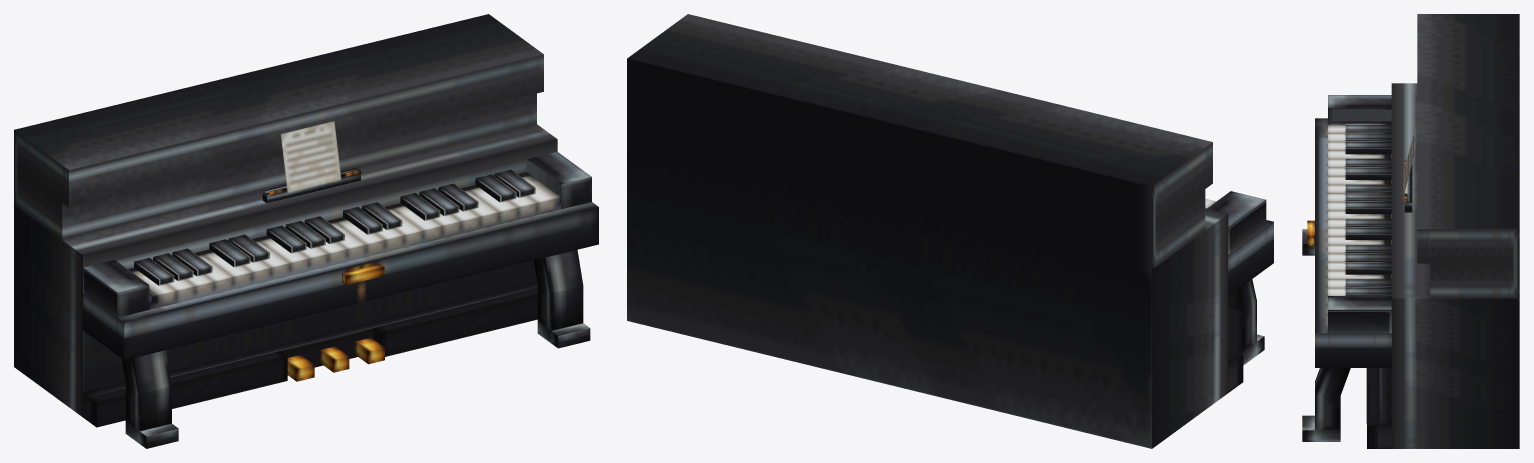
The model's file is Inside_Poly_Piano_01.obj.
The picture shows the model from 3 angles, left to right: view 1: azimuth 30°, elevation 25°; view 2: azimuth 150°, elevation 25°; view 3: azimuth 270°, elevation 25°; orthographic projection. The views are drawn at different scales.
Parts seen in each view (by area): view 1: Cube; view 2: Cube; view 3: Cube.
Boxes of the visible parts, bbox=[...] form: Cube: bbox=[14, 14, 598, 448]; Cube: bbox=[627, 14, 1273, 448]; Cube: bbox=[1302, 14, 1519, 448].
Size of the model in its own units: 2.19 by 1.04 by 0.935.
1 material, 1 textured.
